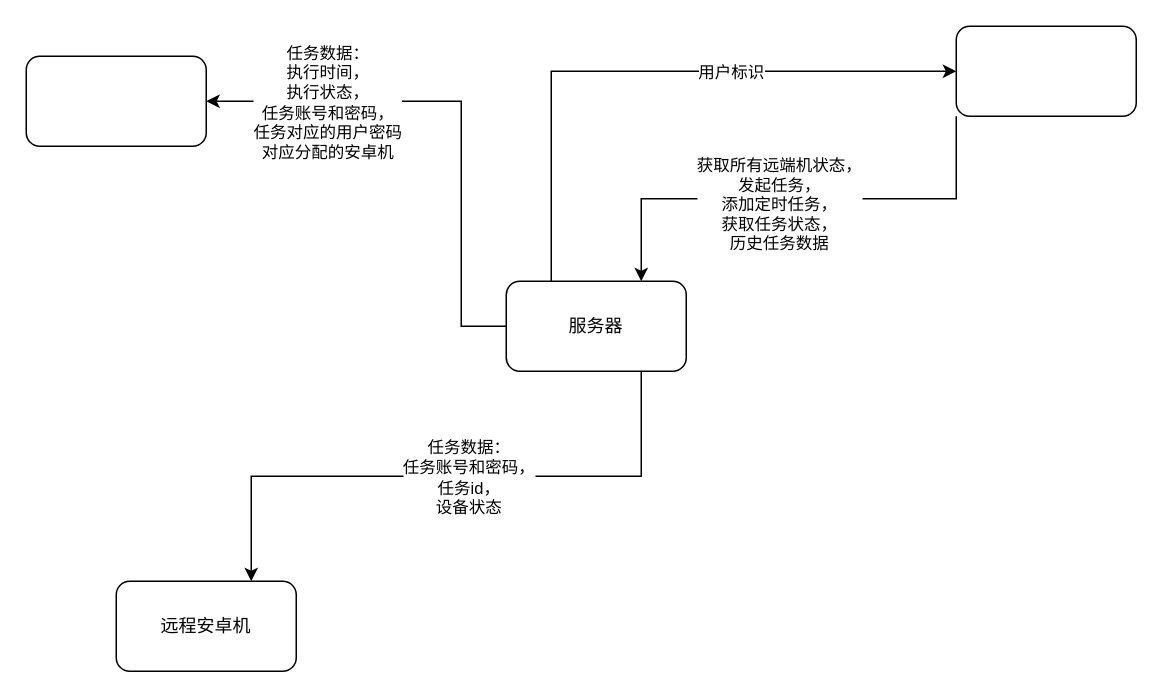
Image size: 1163x698. Some labels were removed from this diagram. Each missing label, with the centre of its shape:
数据库: pixel 115 100
用户端: pixel 1045 70
